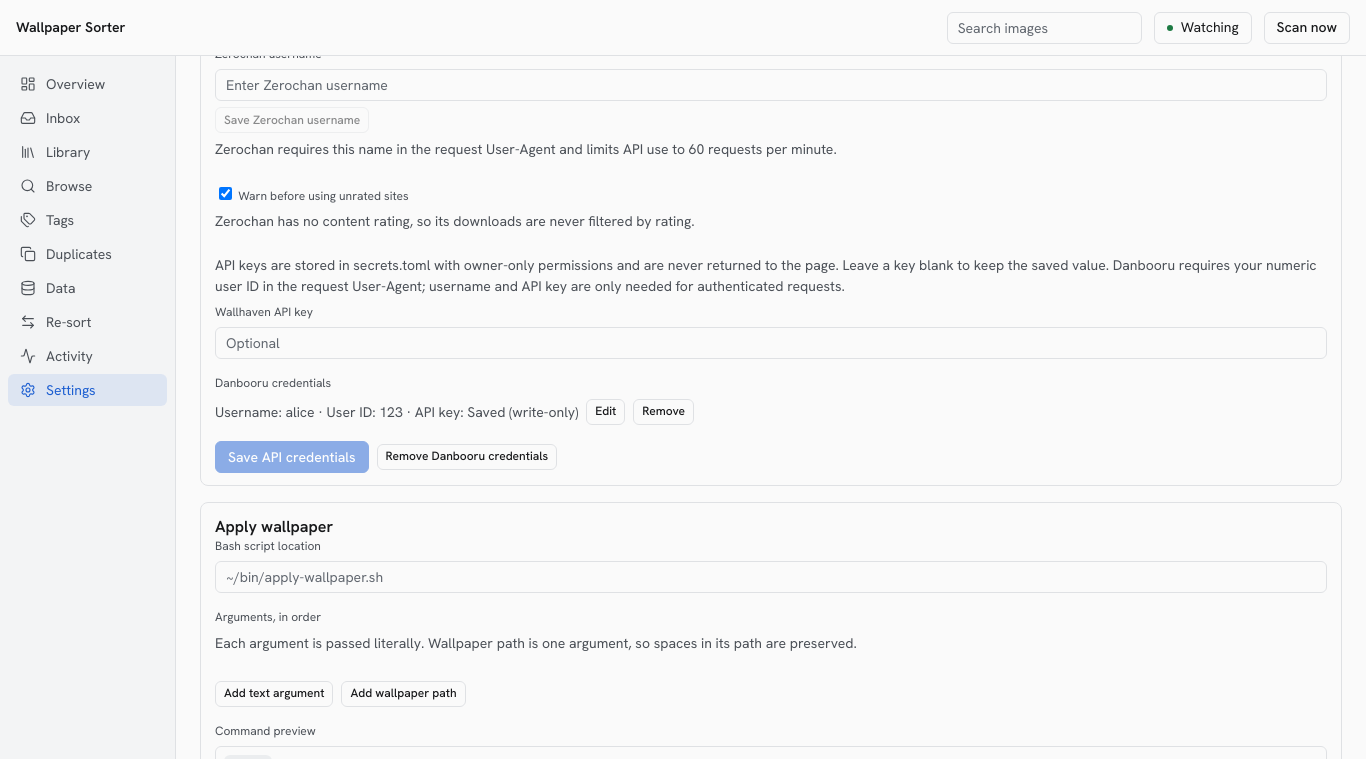
it: shows editable Danbooru identity while keeping its API key write-only
The width and height of the screenshot is (1366, 759).
Later steps or results of the test are not shown.
(page scrolled)
expect the text "Username: alice · User ID: 123 · API key: Saved (write-only)" is shown: met, box [215,402,578,422]
Click the button with aria-label "Edit Danbooru credentials". click: (606, 412)
box: [586,399,625,425]
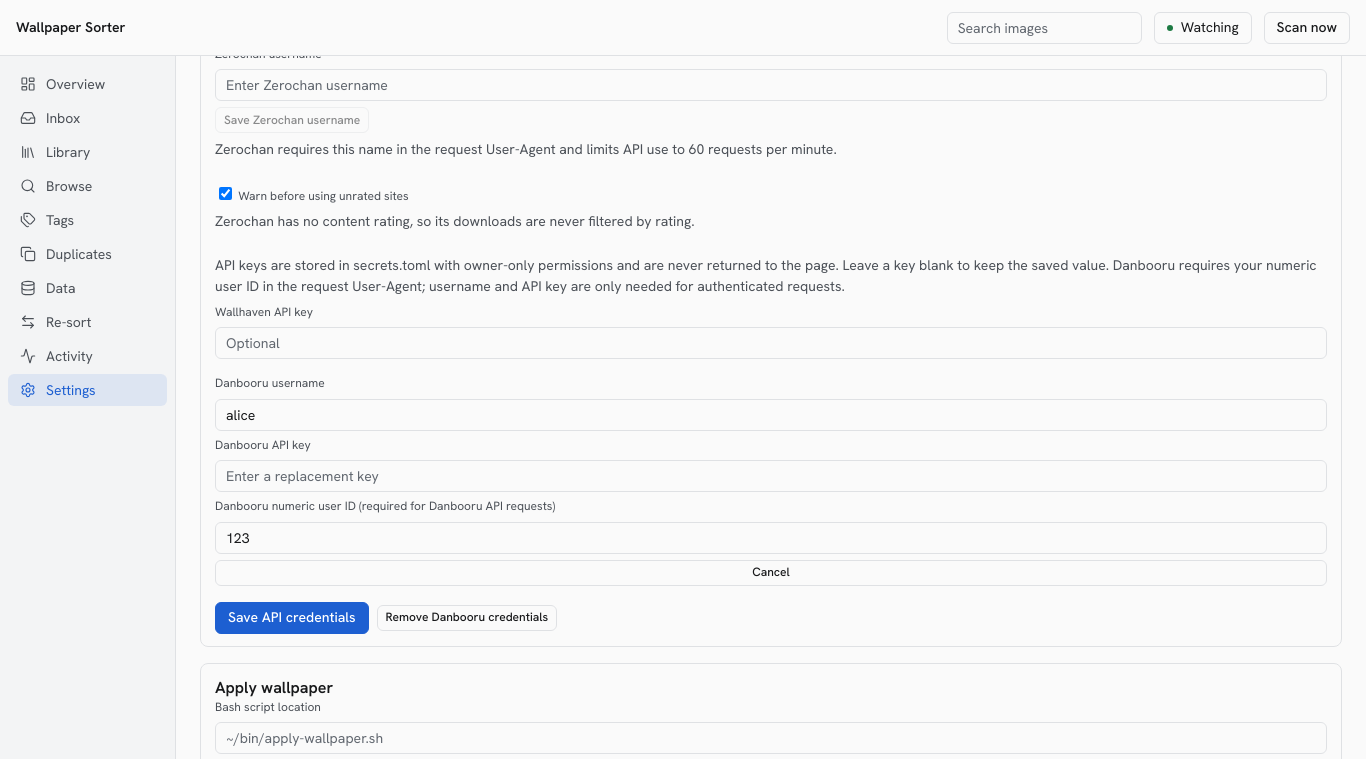
expect the field labelled "Danbooru username" holds "alice": met, box [215,399,1327,431]
expect the field labelled "Danbooru numeric user ID (required for Danbooru API requests)" holds "123": met, box [215,522,1327,554]
expect the password field labelled "Danbooru API key" is empty: met, box [215,460,1327,492]
